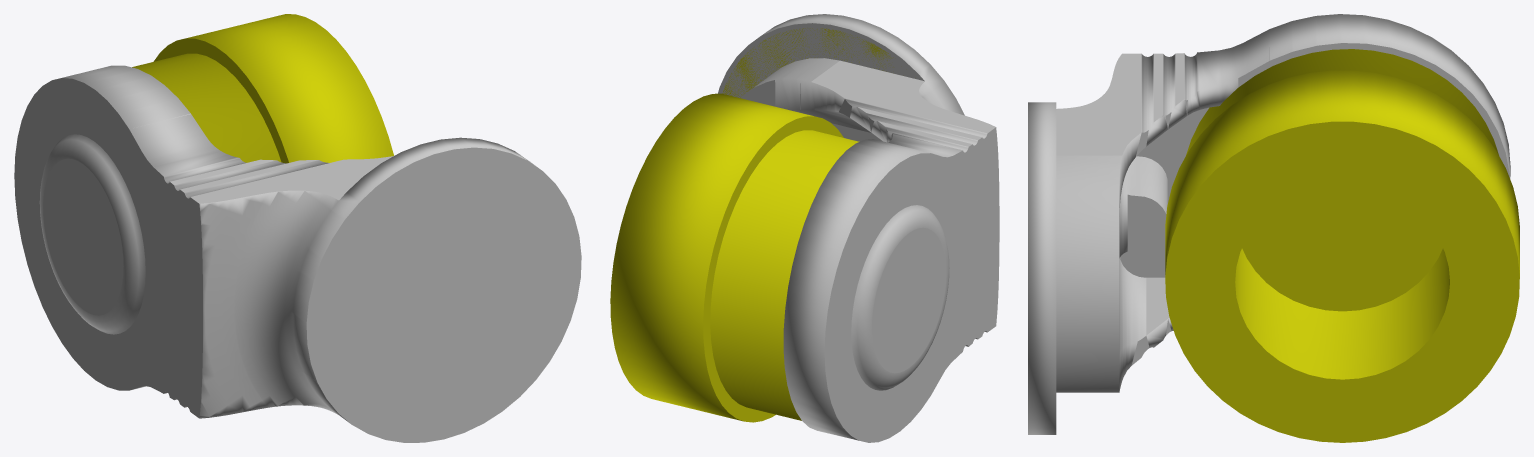
The picture shows the model from 3 angles, left to right: view 1: azimuth 30°, elevation 25°; view 2: azimuth 150°, elevation 25°; view 3: azimuth 270°, elevation 25°; orthographic projection. The views are drawn at different scales.
Visible parts, largest first — view 1: Actor0; view 2: Actor0; view 3: Actor0.
Part boxes in pixels (x1,y1,x2,y2): Actor0: [14, 14, 581, 442]; Actor0: [610, 14, 999, 442]; Actor0: [1028, 14, 1519, 442].
Size of the model in its own units: 0.157 by 0.183 by 0.1319.
